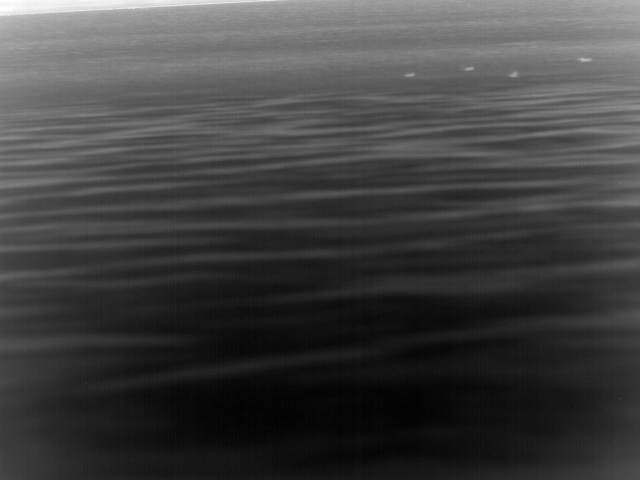dim target: (403, 72, 416, 79), (507, 70, 518, 78), (462, 65, 474, 72), (579, 57, 593, 62)
